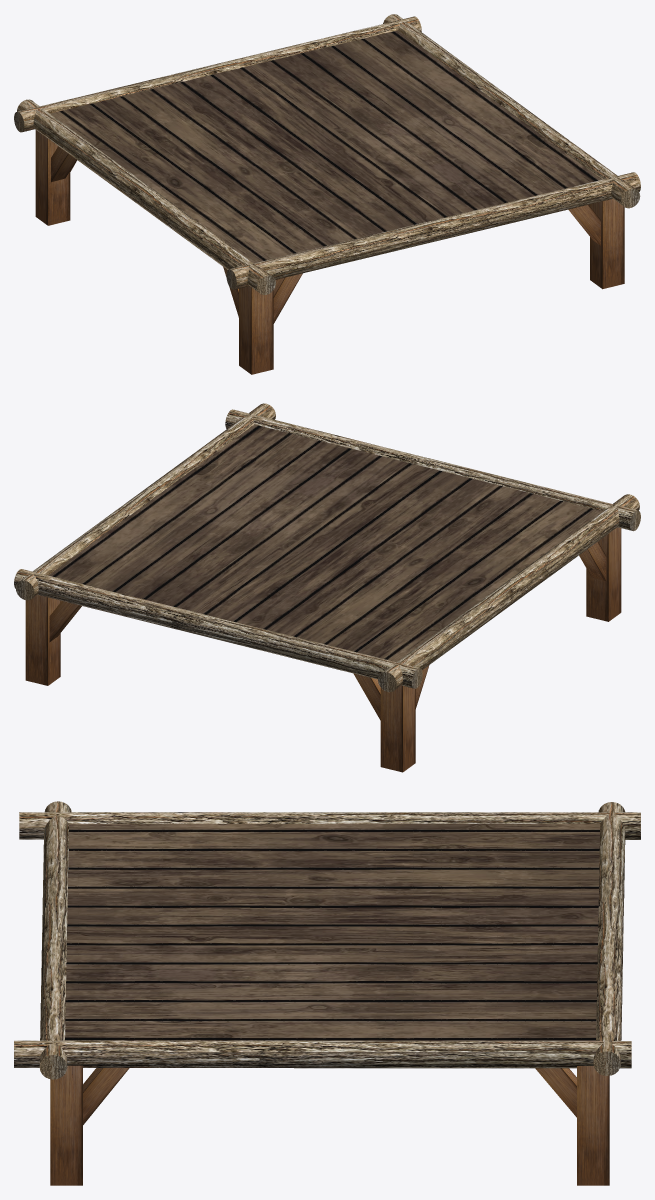
The model's file is wood flor.gltf.
3 renders of one model, top to bottom at view 1: azimuth 30°, elevation 25°; view 2: azimuth 150°, elevation 25°; view 3: azimuth 270°, elevation 25°, orthographic. The views are drawn at different scales.
Parts seen in each view (by area): view 1: Küp9, Silindir3, Silindir2, Silindir, Silindir1, Küp12, Küp, Küp11, Küp6, Küp7, Küp3; view 2: Küp9, Silindir, Silindir2, Silindir3, Silindir1, Küp11, Küp10, Küp12, Küp2, Küp5, Küp8; view 3: Küp9, Silindir1, Silindir2, Silindir, Silindir3, Küp10, Küp, Küp4, Küp1.
Boxes of the visible parts, x1,y1,x2,y2 form: Küp9: (50,27,601,263); Silindir3: (226,172,640,289); Silindir2: (17,99,275,294); Silindir: (14,16,421,132); Silindir1: (383,14,640,208); Küp12: (239,286,273,374); Küp: (590,199,624,289); Küp11: (35,130,70,225); Küp6: (568,204,600,245); Küp7: (273,273,302,323); Küp3: (51,146,76,182); Küp9: (34,424,602,662); Silindir: (14,569,422,688); Silindir2: (383,494,639,692); Silindir3: (225,409,640,531); Silindir1: (15,403,275,600); Küp11: (380,685,415,772); Küp10: (25,595,60,685); Küp12: (586,527,621,621); Küp2: (579,541,606,580); Küp5: (49,601,81,641); Küp8: (353,673,380,720); Küp9: (65,823,600,1053); Silindir1: (14,1040,631,1068); Silindir2: (19,812,640,839); Silindir: (593,802,625,1075); Silindir3: (39,801,71,1079); Küp10: (577,1066,609,1185); Küp: (50,1065,82,1185); Küp4: (83,1068,129,1124); Küp1: (535,1068,576,1117).
Bounding box in the file's own units: 2.15 × 0.5485 × 2.24.
Materials: 18 (18 with a texture image).
